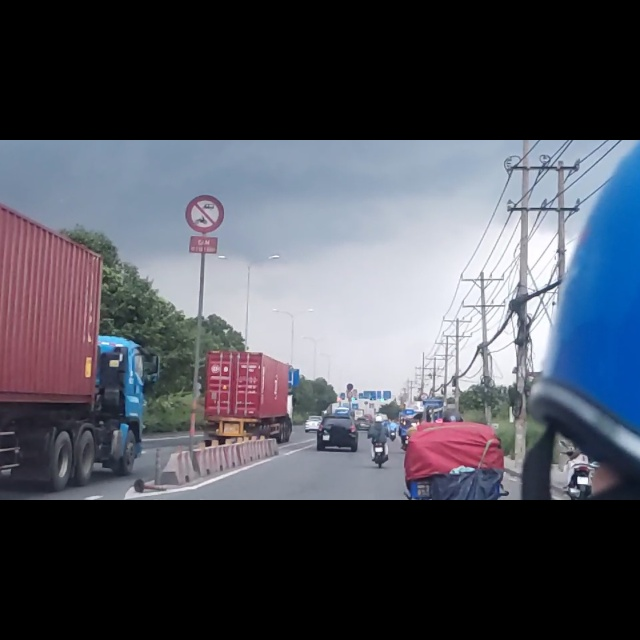bien_nguy_hiem: (185, 96, 225, 166)
